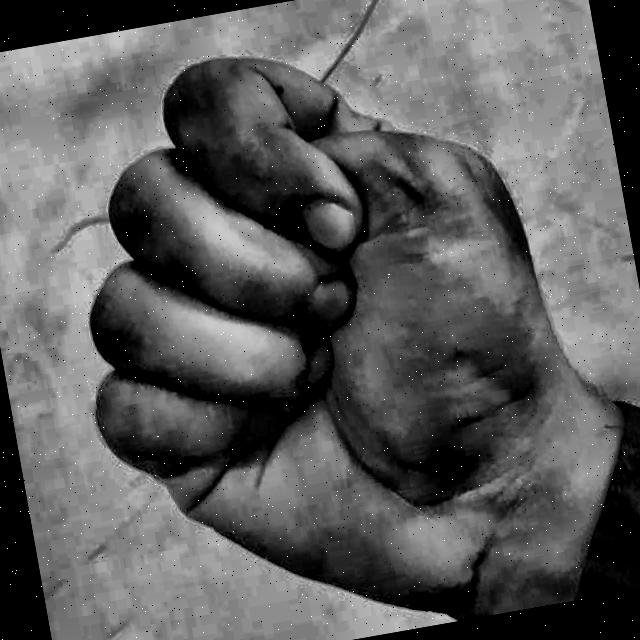To: (28, 0, 629, 640)
